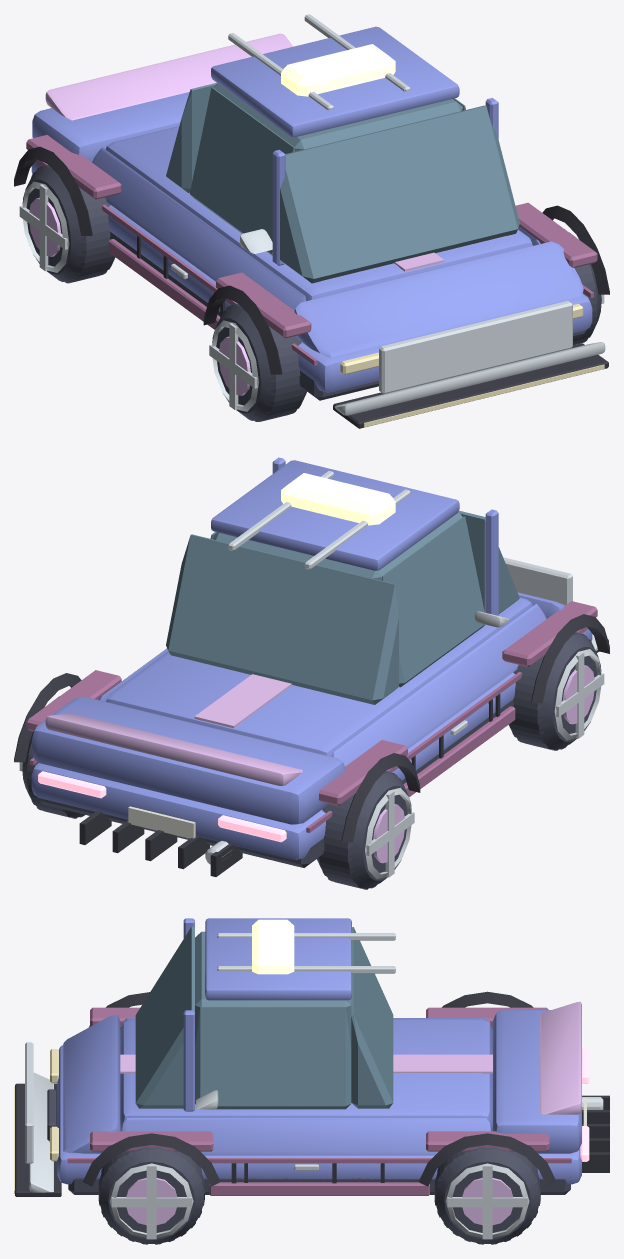
Rendered from metro_mini.fbx.
3 views of the same model, one above another, from view 1: azimuth 30°, elevation 25°; view 2: azimuth 150°, elevation 25°; view 3: azimuth 270°, elevation 25° (orthographic). The views are drawn at different scales.
Visible parts, largest first — view 1: Body, Glass, Metal, Accent, Trim, Accent3, Accent2, Wheel_FR, Wheel_RR, Light4, Light, Metal2 (+2 smaller); view 2: Body, Glass, Accent, Trim, Metal, Accent3, Wheel_RR, Wheel_FR, Light4, Light3, Accent2, Light2 (+4 smaller); view 3: Body, Glass, Accent, Trim, Metal, Wheel_RL, Wheel_FL, Accent3, Accent2, Metal2, Light4, Light3 (+3 smaller).
Boxes of the visible parts, <box> form: Body: <box>31,26,592,392</box>; Glass: <box>166,82,519,283</box>; Metal: <box>19,181,604,411</box>; Accent: <box>26,135,597,365</box>; Trim: <box>14,146,609,428</box>; Accent3: <box>45,33,506,281</box>; Accent2: <box>228,14,605,415</box>; Wheel_FR: <box>212,303,306,421</box>; Wheel_RR: <box>22,165,115,283</box>; Light4: <box>281,44,395,96</box>; Light: <box>340,304,604,427</box>; Metal2: <box>29,197,250,395</box>; Body: <box>31,457,592,859</box>; Glass: <box>166,510,519,704</box>; Accent: <box>26,601,597,832</box>; Trim: <box>14,614,609,876</box>; Metal: <box>19,557,604,879</box>; Accent3: <box>45,713,302,786</box>; Wheel_RR: <box>317,771,411,889</box>; Wheel_FR: <box>509,632,601,750</box>; Light4: <box>281,473,395,525</box>; Light3: <box>194,674,292,728</box>; Accent2: <box>228,471,597,650</box>; Light2: <box>38,771,286,842</box>; Body: <box>57,918,581,1184</box>; Glass: <box>135,926,393,1109</box>; Accent: <box>67,1007,571,1195</box>; Trim: <box>15,991,609,1196</box>; Metal: <box>25,1042,603,1239</box>; Wheel_RL: <box>434,1147,540,1244</box>; Wheel_FL: <box>98,1147,204,1244</box>; Accent3: <box>195,1001,581,1114</box>; Accent2: <box>29,933,395,1192</box>; Metal2: <box>126,1178,512,1225</box>; Light4: <box>252,919,294,974</box>; Light3: <box>120,1054,492,1073</box>.
Size of the model in its own units: 3.2 by 2.35 by 5.34.
